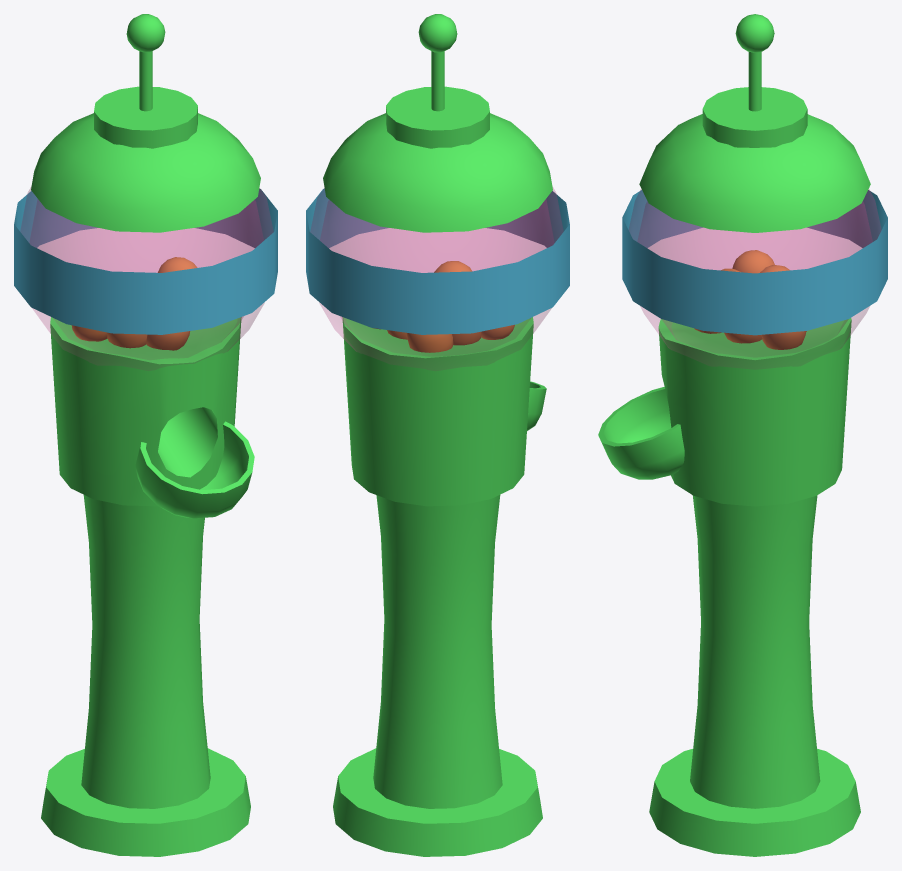
Rendered from ZeeboDispenser.fbx.
3 renders of one model, left to right at view 1: azimuth 30°, elevation 25°; view 2: azimuth 150°, elevation 25°; view 3: azimuth 270°, elevation 25°, orthographic.
Parts seen in each view (by area): view 1: Gachapon; view 2: Gachapon; view 3: Gachapon.
Part boxes in pixels (<box>): Gachapon: <box>14,14,277,856</box>; Gachapon: <box>306,14,569,856</box>; Gachapon: <box>598,14,887,856</box>.
Bounding box in the file's own units: 2.33 × 7.73 × 2.55.
